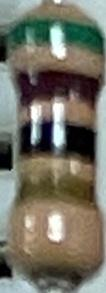Black: (18, 120, 96, 165)
Brown: (12, 72, 104, 108)
Green: (8, 23, 104, 57)
Side-Gold: (10, 172, 97, 213)
